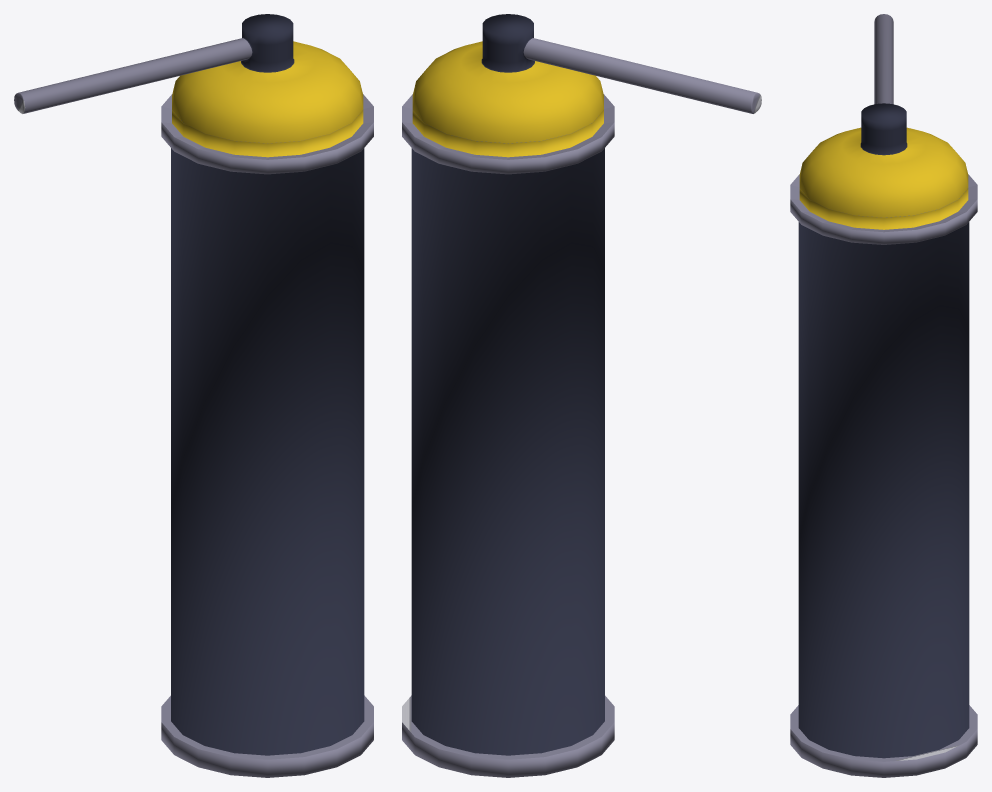
File: spraycan.fbx
3 renders of one model, left to right at view 1: azimuth 30°, elevation 25°; view 2: azimuth 150°, elevation 25°; view 3: azimuth 270°, elevation 25°, orthographic. The views are drawn at different scales.
Visible parts, largest first — view 1: SprayCan; view 2: SprayCan; view 3: SprayCan.
Part boxes in pixels (bbox=[...]): SprayCan: bbox=[14, 14, 373, 777]; SprayCan: bbox=[402, 14, 761, 777]; SprayCan: bbox=[790, 14, 977, 777].
Bounding box in the file's own units: 9.85 × 19.47 × 5.3.
